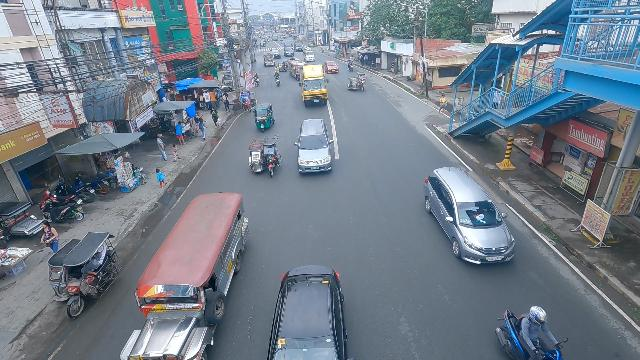car: (420, 165, 517, 269), (265, 263, 347, 360), (294, 116, 335, 178), (324, 60, 339, 75), (283, 46, 295, 57), (271, 48, 281, 59), (294, 42, 303, 52)
jeepney: (115, 187, 247, 360), (263, 51, 276, 67), (288, 60, 299, 78)
motorcycle: (492, 304, 568, 360), (274, 70, 281, 87), (347, 58, 353, 71), (274, 64, 280, 75), (290, 43, 294, 51)
truck: (298, 65, 329, 109)
van: (303, 49, 315, 62)
